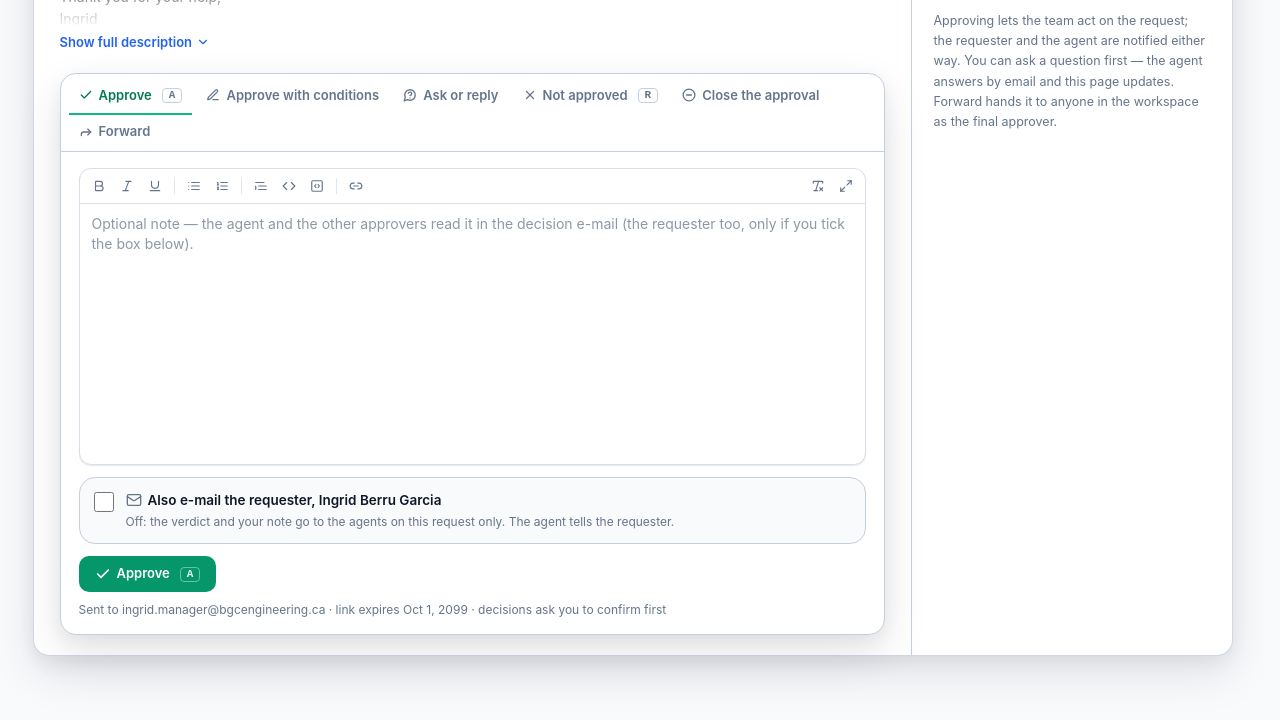
Test: PublicApprovalDecision (approval redesign) › confirmation: "Go back" (or Escape) closes the sheet without deciding
This screenshot has width=1280, height=720.
(page scrolled)
Click the button "Approve A" at (147, 574), box [78, 556, 216, 592]
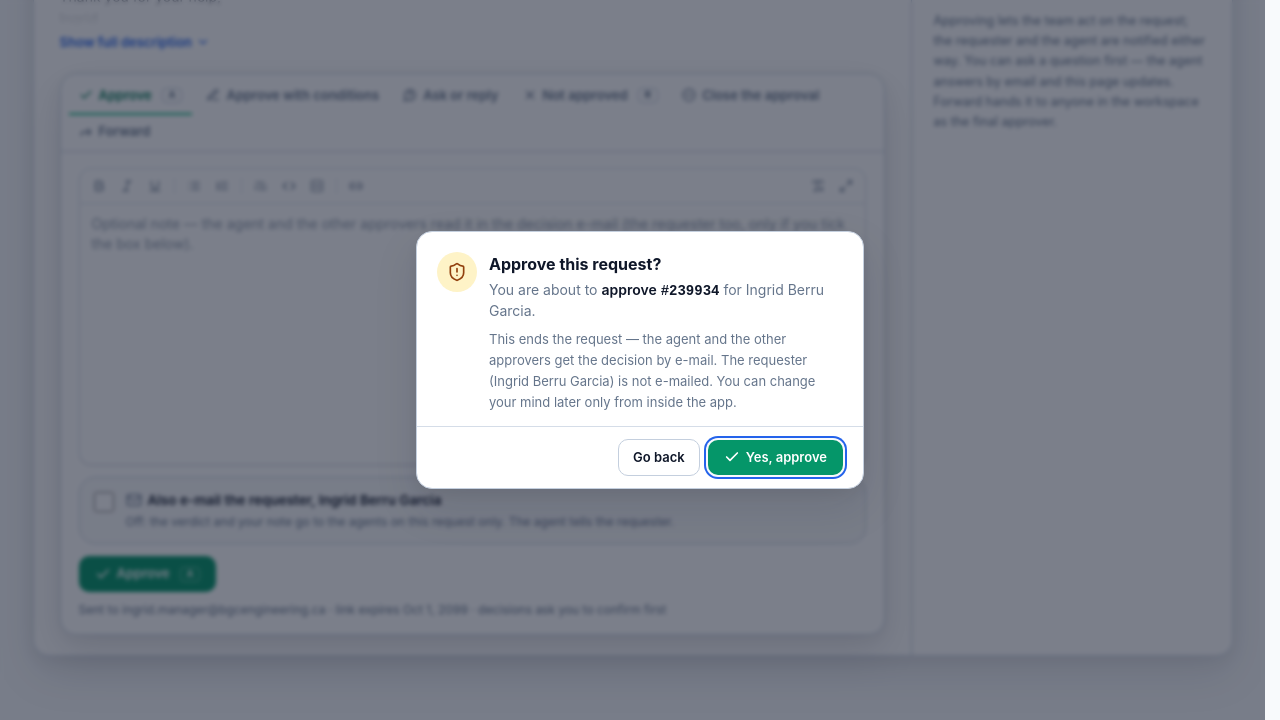
Click the button "Go back" at (659, 457), box [618, 438, 700, 476]
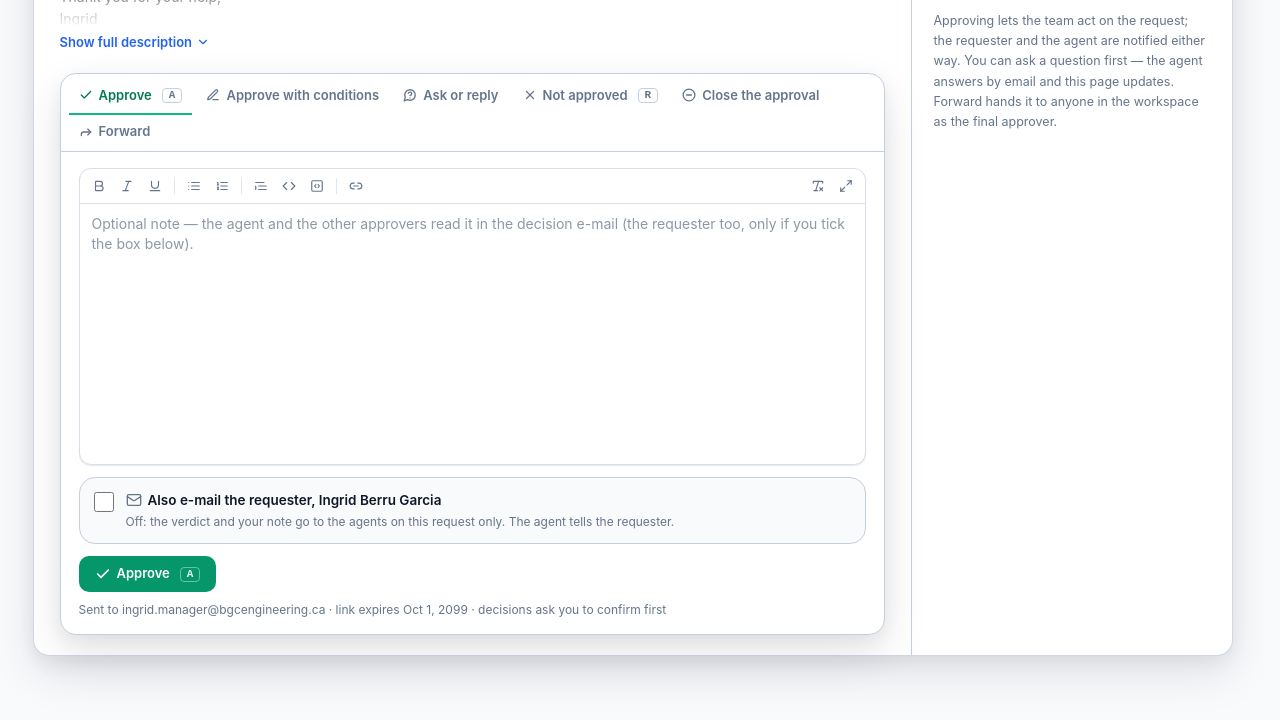
Now the dialog is gone
Press a
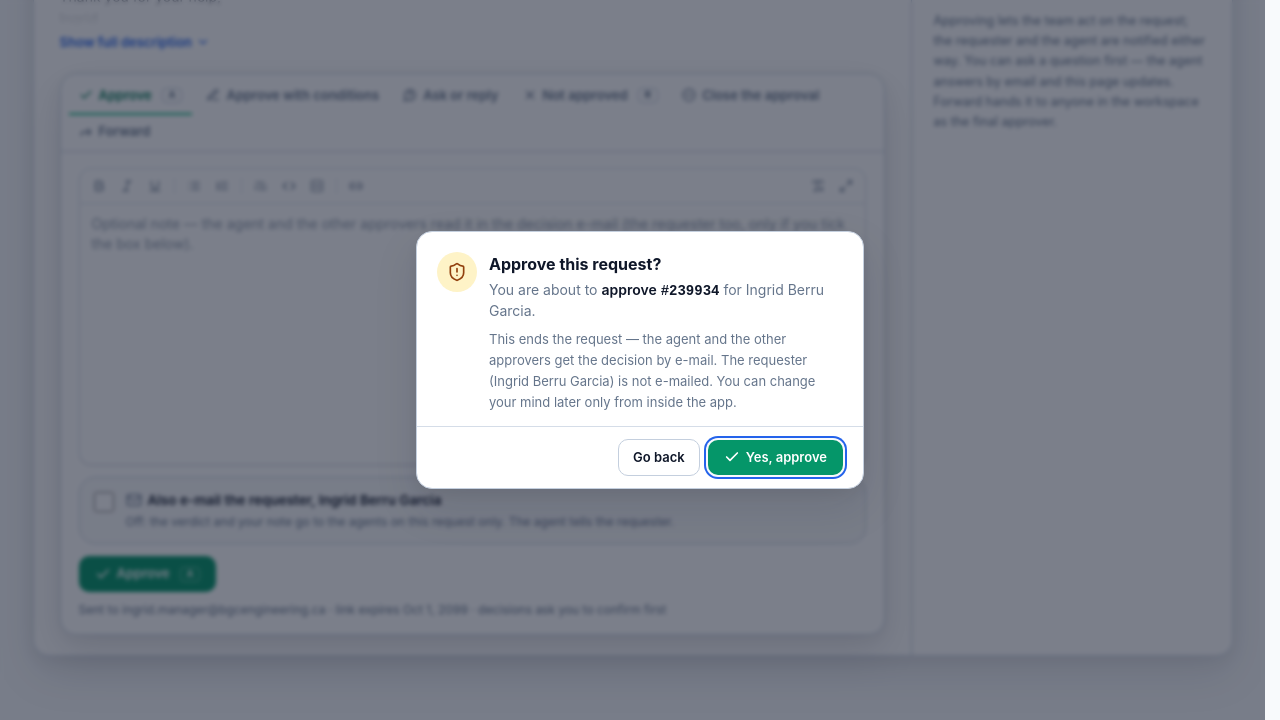
Now the dialog is shown
Press Escape
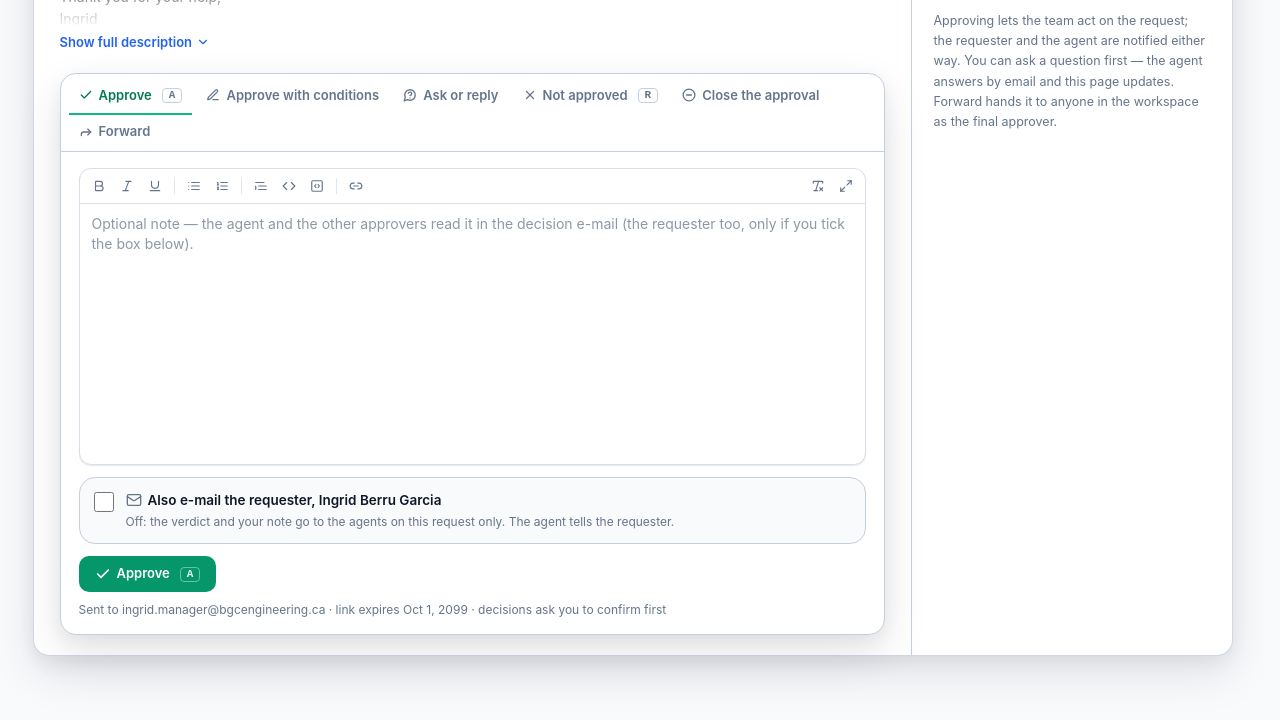
Expected: the button "Approve A" is enabled, [78, 556, 216, 592]
Now the dialog is gone
